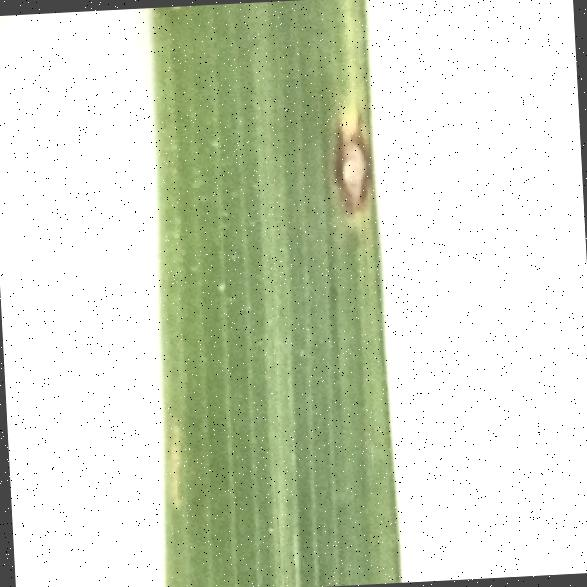Leaf_smut: (310, 108, 374, 232)
